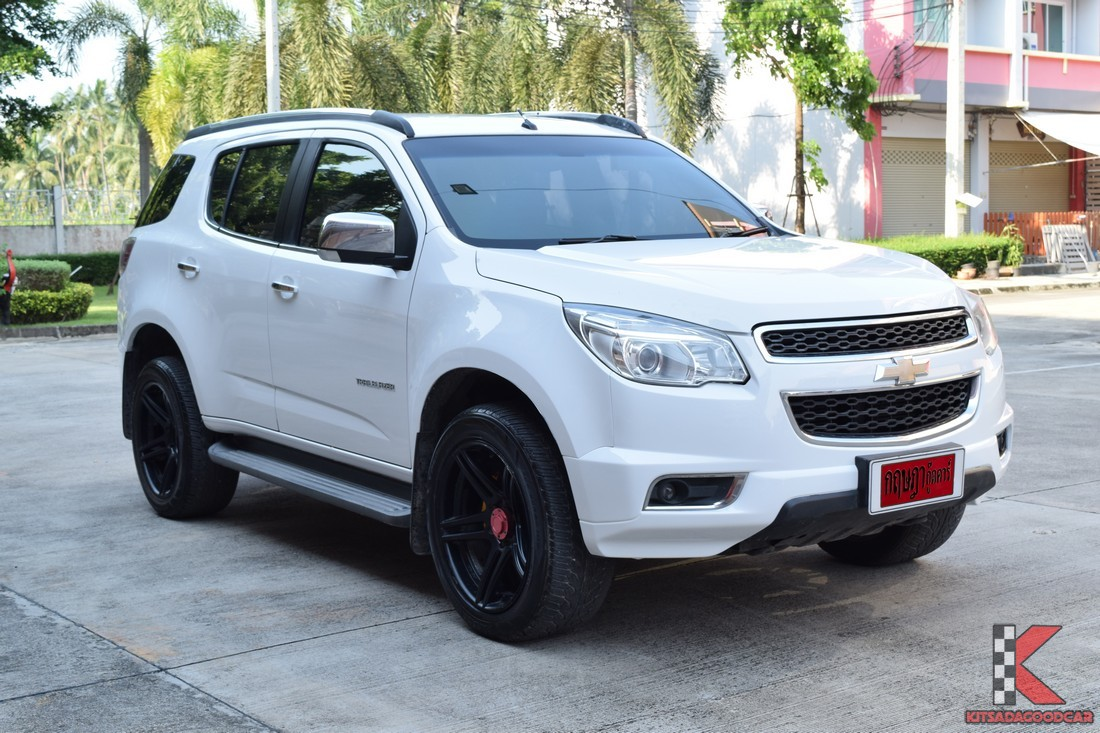pickup: (110, 104, 1013, 638)
